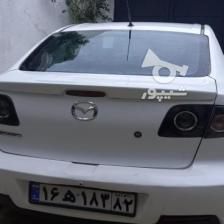plate: (28, 180, 136, 216)
